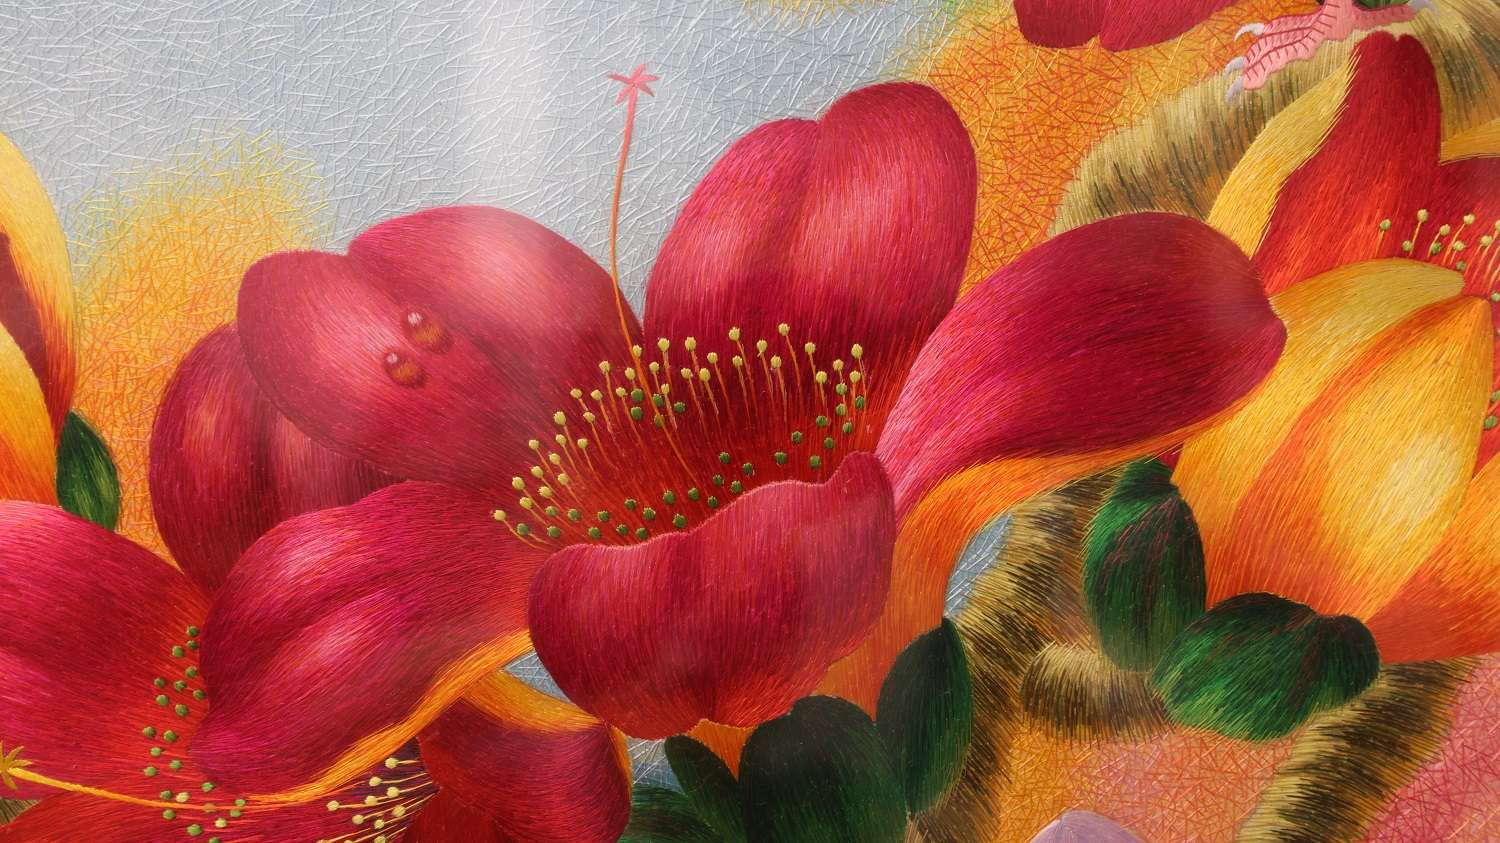kapok: (184, 78, 1286, 802), (2, 327, 633, 842), (1080, 33, 1500, 739)
